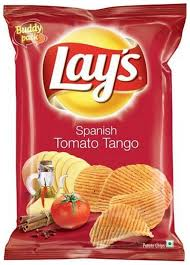lays-med: (6, 4, 180, 254)
